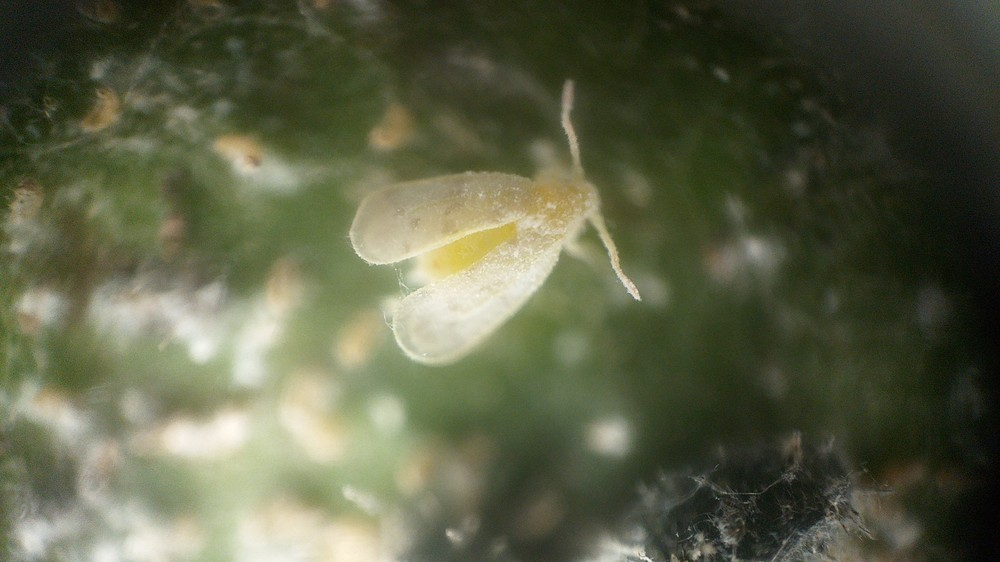Mosca Blanca: (342, 71, 662, 378)
